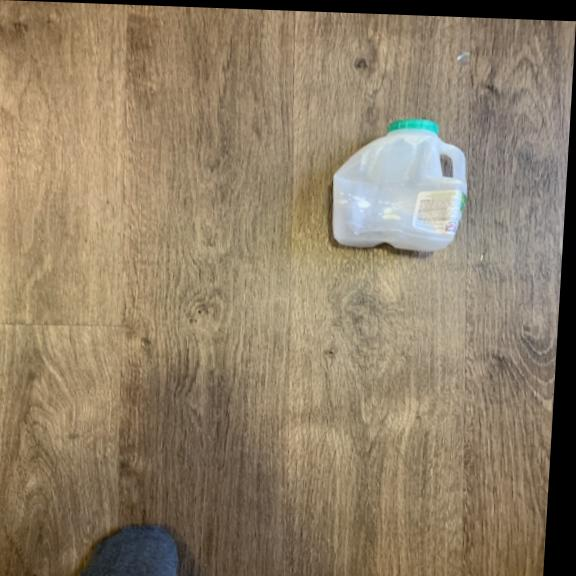Plastik: (325, 114, 470, 253)
